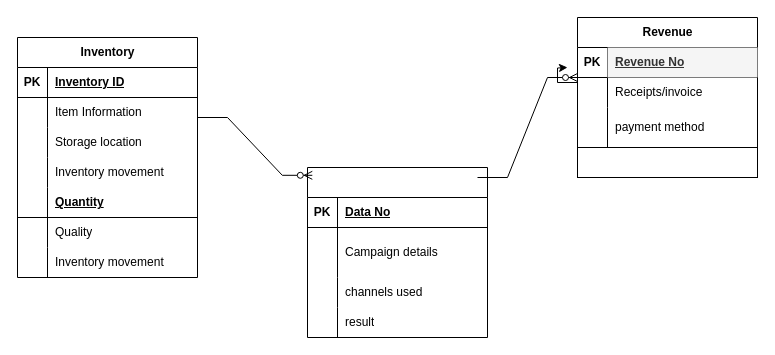
The diagram is 775 pixels wide and 355 high, and some of its shapes have lost their labels. Here are the shapes that lost their labels. From the top down, the box of each, then its label:
(576, 146, 758, 178): profit made
(306, 166, 488, 338): Marketing Data
